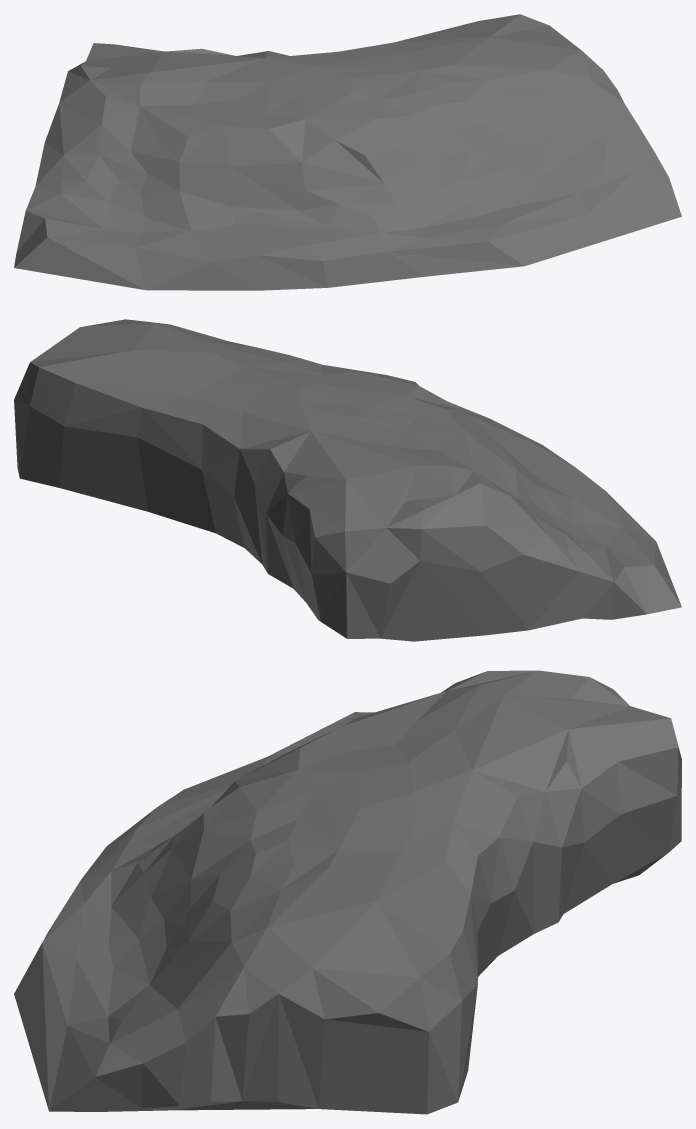
File: SM_Gen_Env_Ground_River_Grass_04.glb
The picture shows the model from 3 angles, top to bottom: view 1: azimuth 30°, elevation 25°; view 2: azimuth 150°, elevation 25°; view 3: azimuth 270°, elevation 25°; orthographic projection. The views are drawn at different scales.
Visible parts, largest first — view 1: SM_Gen_Env_Ground_River_Grass_04; view 2: SM_Gen_Env_Ground_River_Grass_04; view 3: SM_Gen_Env_Ground_River_Grass_04.
Part boxes in pixels (box(x1,y1,x2,y2)): SM_Gen_Env_Ground_River_Grass_04: box(14, 14, 681, 290); SM_Gen_Env_Ground_River_Grass_04: box(14, 319, 681, 641); SM_Gen_Env_Ground_River_Grass_04: box(14, 670, 681, 1114).
Bounding box in the file's own units: 10.36 × 2.15 × 7.52.
1 material, 1 textured.
